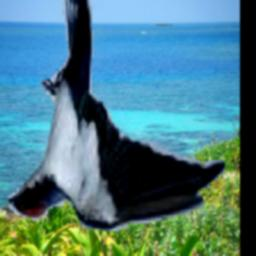Swallow: (6, 0, 225, 232)
